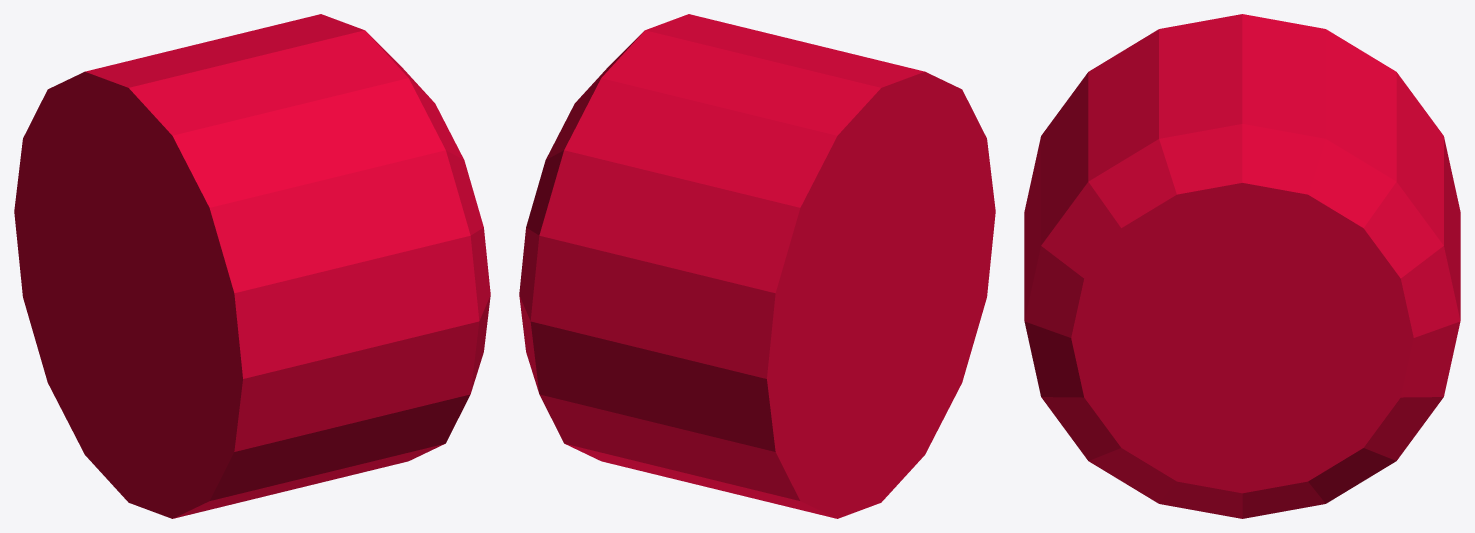
File: button.glb
3 views of the same model, side by side, from view 1: azimuth 30°, elevation 25°; view 2: azimuth 150°, elevation 25°; view 3: azimuth 270°, elevation 25° (orthographic). The views are drawn at different scales.
Visible parts, largest first — view 1: Button; view 2: Button; view 3: Button.
Part boxes in pixels (x1,y1,x2,y2): Button: (14,14,490,518); Button: (519,14,995,518); Button: (1024,14,1460,518).
Size of the model in its own units: 1.84 by 2.67 by 2.67.
